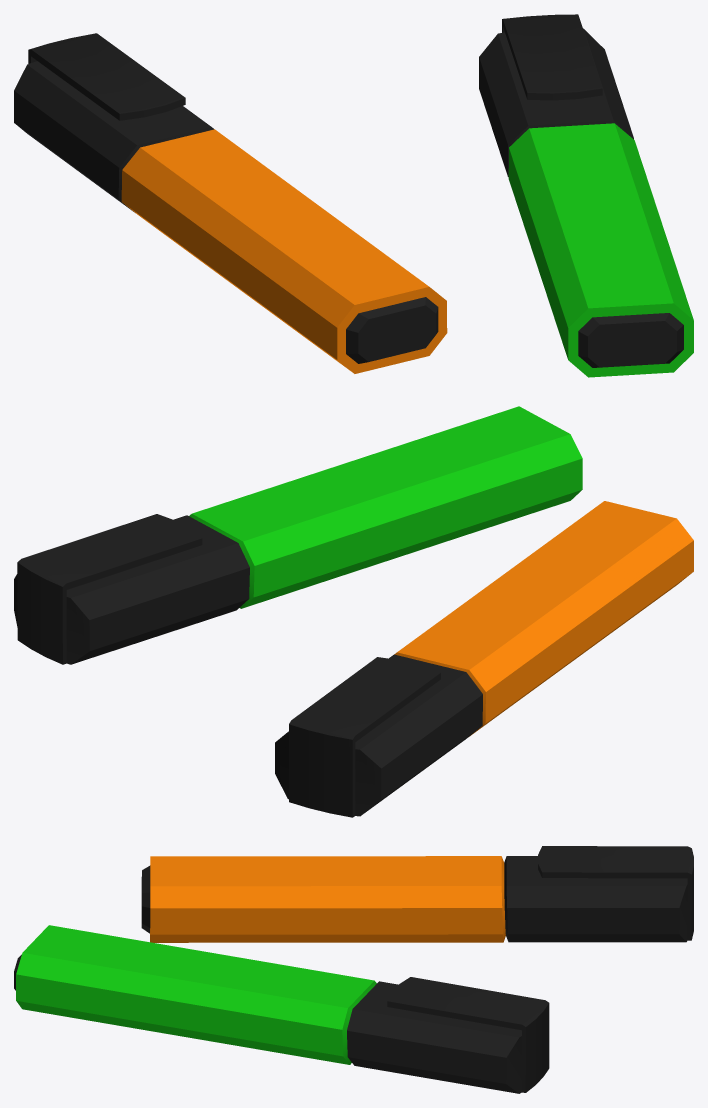
File: Markers.FBX
3 renders of one model, top to bottom at view 1: azimuth 30°, elevation 25°; view 2: azimuth 150°, elevation 25°; view 3: azimuth 270°, elevation 25°, orthographic. The views are drawn at different scales.
Parts seen in each view (by area): view 1: markers; view 2: markers; view 3: markers.
Boxes of the visible parts, x1=… form: markers: x1=14, y1=14, x2=693, y2=377; markers: x1=14, y1=406, x2=693, y2=817; markers: x1=14, y1=846, x2=693, y2=1093.
Size of the model in its own units: 11.03 by 1.82 by 16.35.
Materials: 2 (2 with a texture image).
